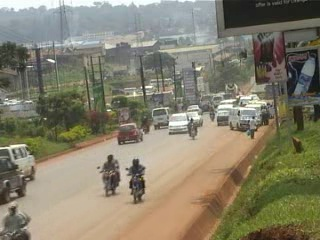Car: (0, 152, 30, 204), (113, 121, 145, 145), (166, 110, 190, 136), (187, 109, 204, 127), (184, 103, 203, 117)
Motorcycle: (0, 199, 36, 240), (97, 152, 123, 199), (124, 159, 150, 205), (138, 111, 153, 135), (185, 118, 199, 139), (206, 106, 219, 122)
